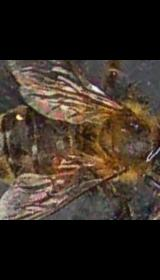varroa_mite: (46, 148, 74, 180)
